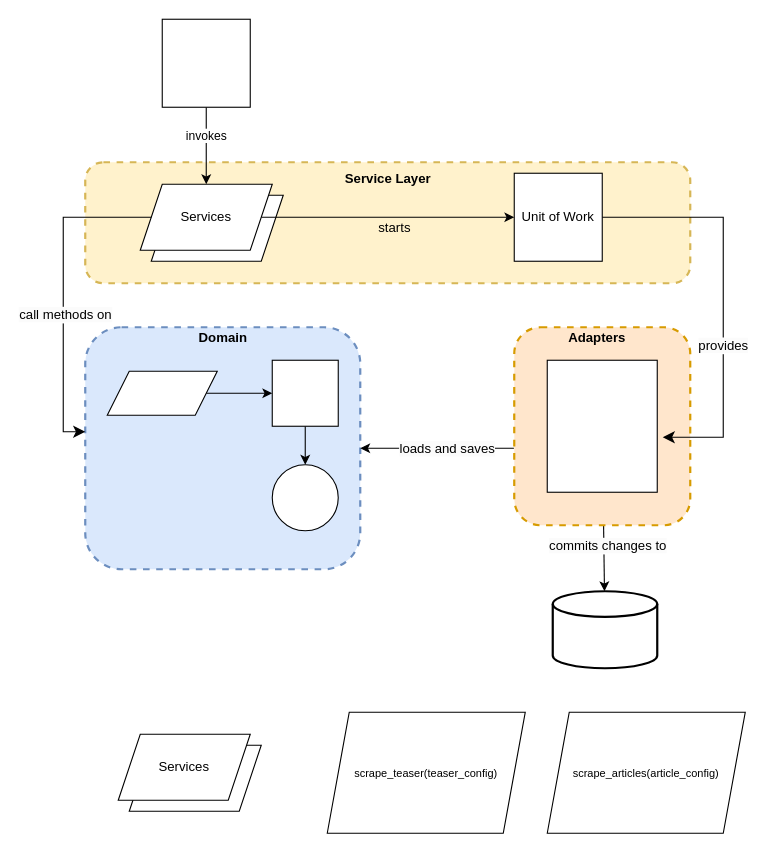
This 767x853 diagram has some shape labels left out. Here are the shapes that lost their labels. From the top down, the centre of each, then its label:
At (205,62): "Flask".
At (601,425): "Repositroy".
At (604,629): "DB".
